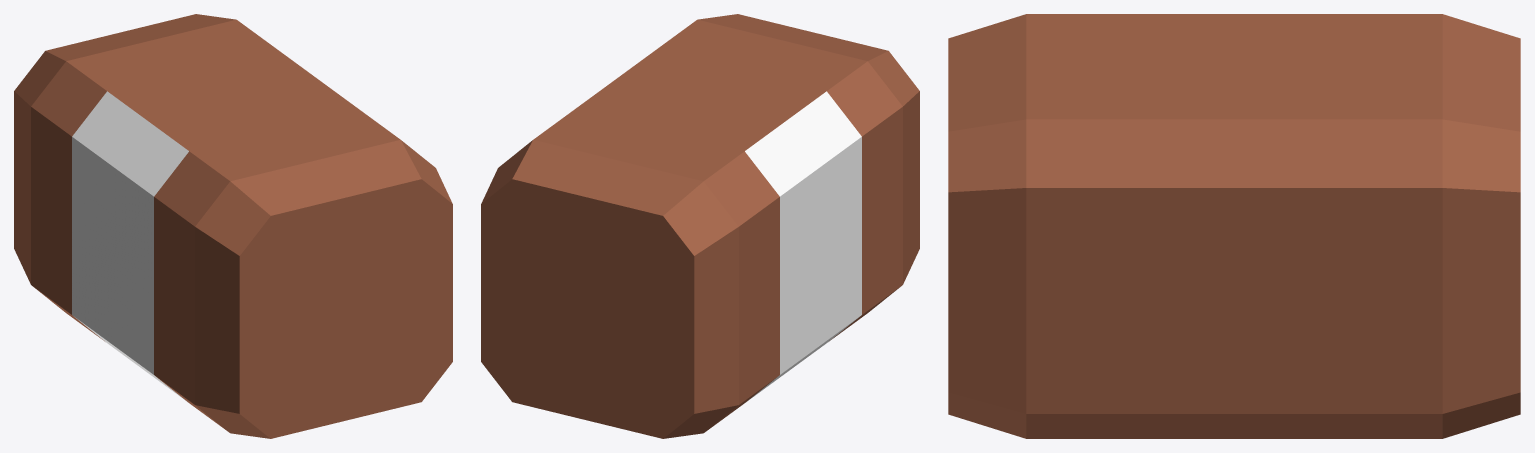
File: shaker.obj
The picture shows the model from 3 angles, left to right: view 1: azimuth 30°, elevation 25°; view 2: azimuth 150°, elevation 25°; view 3: azimuth 270°, elevation 25°; orthographic projection. The views are drawn at different scales.
Parts seen in each view (by area): view 1: shakerSalt; view 2: shakerSalt; view 3: shakerSalt.
Boxes of the visible parts, x1,y1,x2,y2 form: shakerSalt: [14, 14, 452, 438]; shakerSalt: [481, 14, 919, 438]; shakerSalt: [948, 14, 1520, 438].
Size of the model in its own units: 0.0949 by 0.0949 by 0.154.
